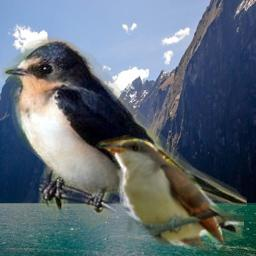Cuckoo: (95, 128, 244, 251)
Swallow: (2, 36, 247, 241)
